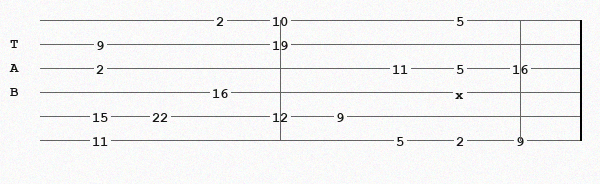10: (272, 14, 292, 27)
11: (92, 134, 112, 147), (392, 62, 412, 75)
12: (272, 110, 292, 123)
15: (92, 110, 112, 123)
16: (212, 86, 232, 99), (512, 62, 532, 75)
19: (272, 38, 292, 51)
2: (96, 62, 108, 75), (216, 14, 228, 27), (456, 134, 468, 147)
22: (152, 110, 172, 123)
5: (396, 134, 408, 147), (456, 14, 468, 27), (456, 62, 468, 75)
9: (96, 38, 108, 51), (336, 110, 348, 123), (516, 134, 528, 147)
x: (455, 87, 468, 97)
